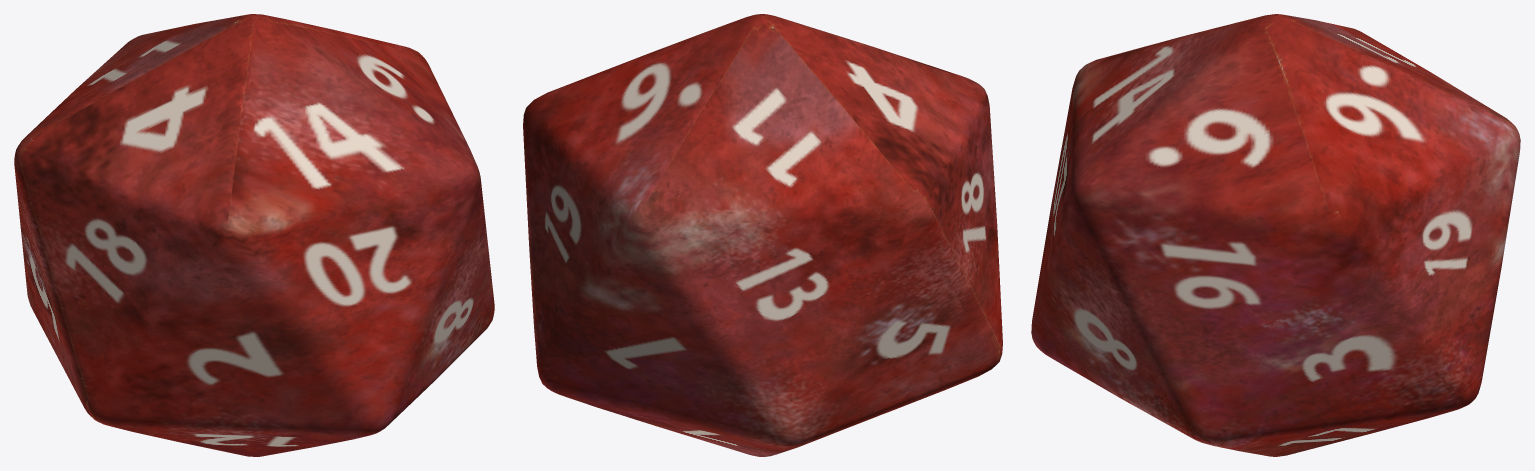
The model's file is d20_model_only_export.fbx.
3 renders of one model, left to right at view 1: azimuth 30°, elevation 25°; view 2: azimuth 150°, elevation 25°; view 3: azimuth 270°, elevation 25°, orthographic.
Parts seen in each view (by area): view 1: pCylinder1; view 2: pCylinder1; view 3: pCylinder1.
Part boxes in pixels (x1,y1,x2,y2): pCylinder1: (14, 14, 494, 456); pCylinder1: (523, 14, 1002, 456); pCylinder1: (1031, 14, 1520, 456).
Bounding box in the file's own units: 3 × 3.08 × 3.12.
Materials: 1 (1 with a texture image).
